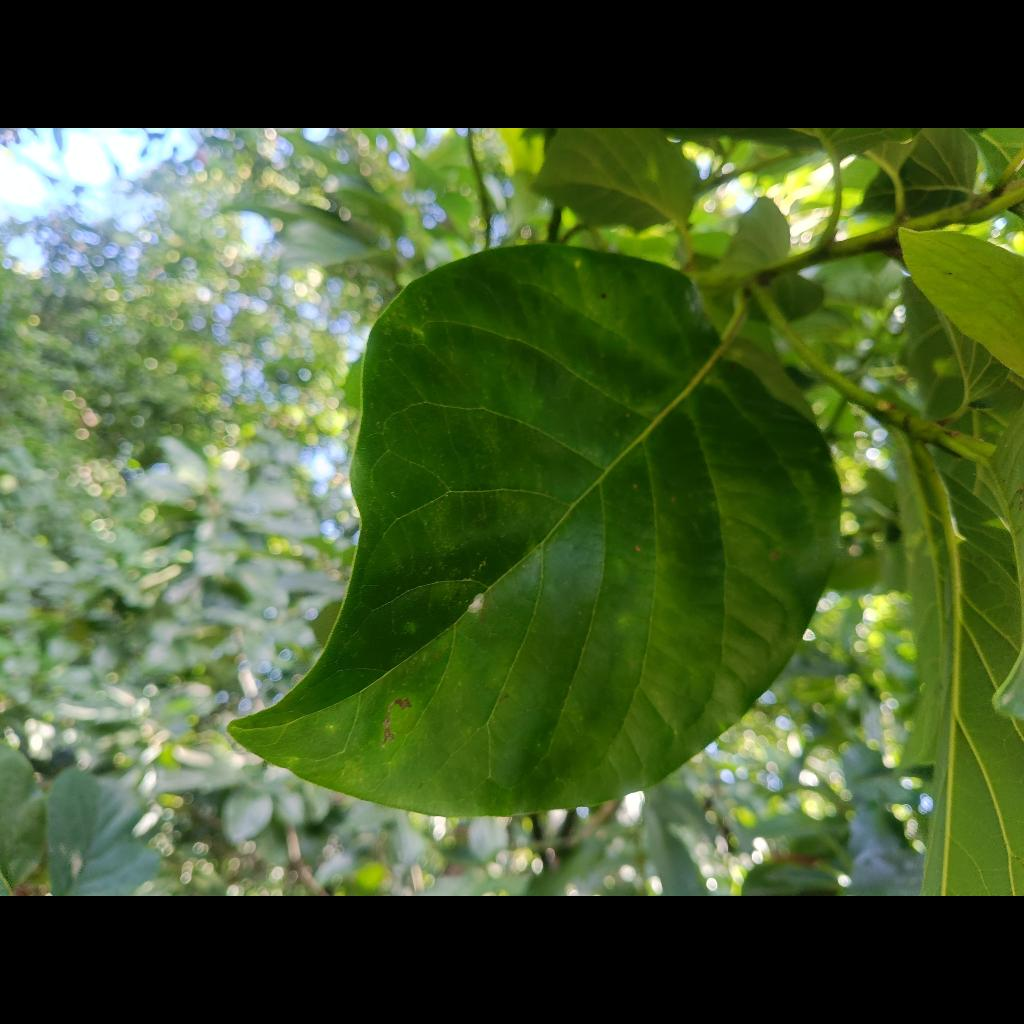Pest Infested: (231, 245, 840, 816)
